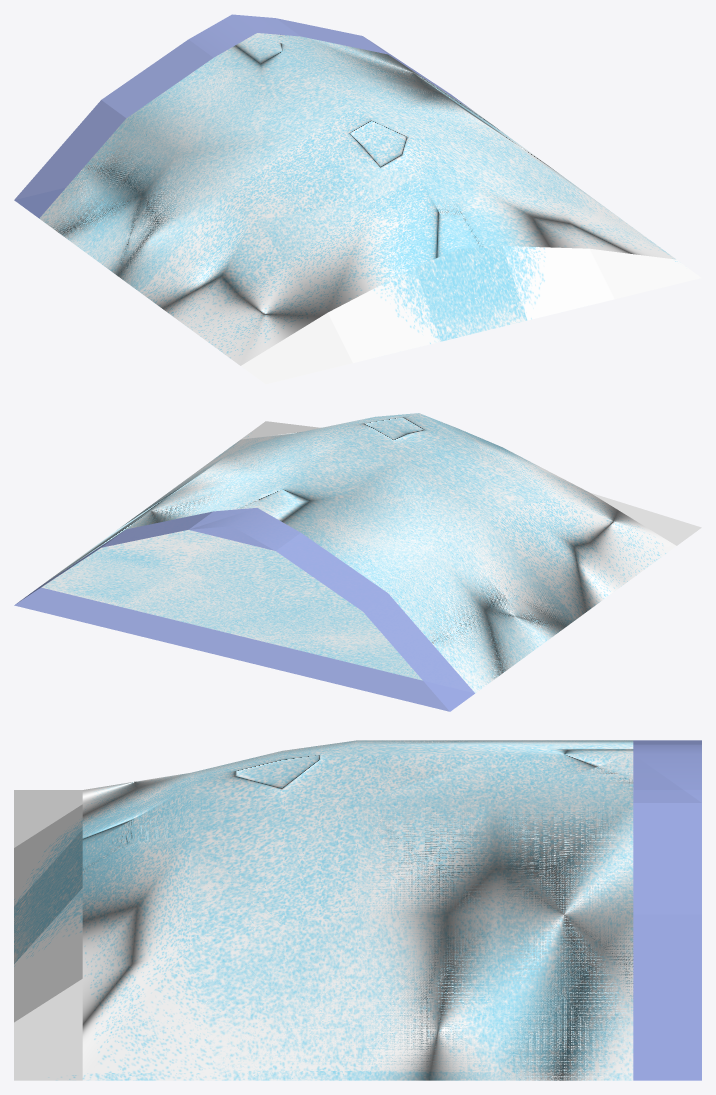
The model's file is oper Zipper bag Dust.fbx.
The picture shows the model from 3 angles, top to bottom: view 1: azimuth 30°, elevation 25°; view 2: azimuth 150°, elevation 25°; view 3: azimuth 270°, elevation 25°; orthographic projection. The views are drawn at different scales.
Parts seen in each view (by area): view 1: pPlane10; view 2: pPlane10; view 3: pPlane10.
Part boxes in pixels (x1,y1,x2,y2): pPlane10: (14,14,701,384); pPlane10: (14,413,701,711); pPlane10: (14,740,701,1080).
Bounding box in the file's own units: 5.63 × 1.63 × 5.63.
2 materials, 1 textured.
